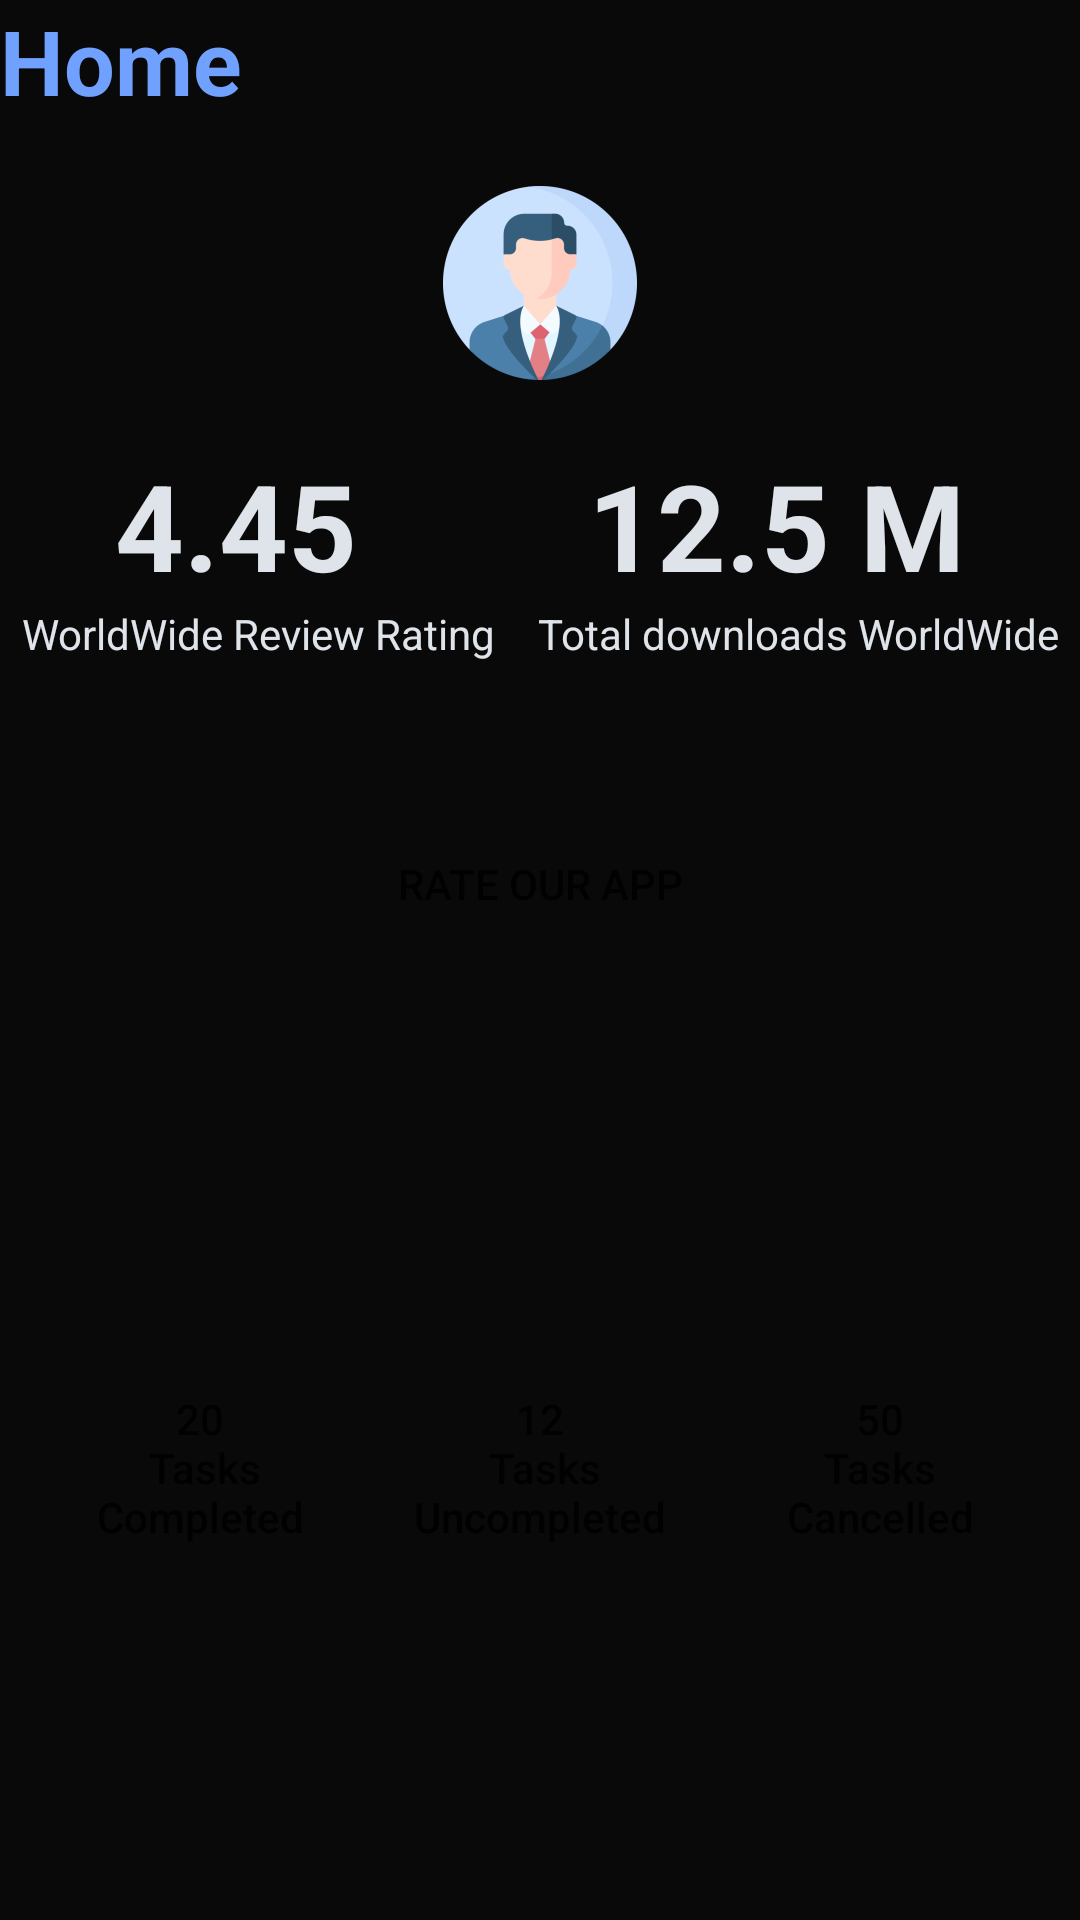

Named icons in this screenshot (1080×1920) and their centers, point (x, y):
profilee: point (540, 283)
